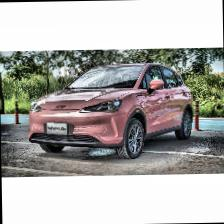EV: (26, 63, 196, 162)
